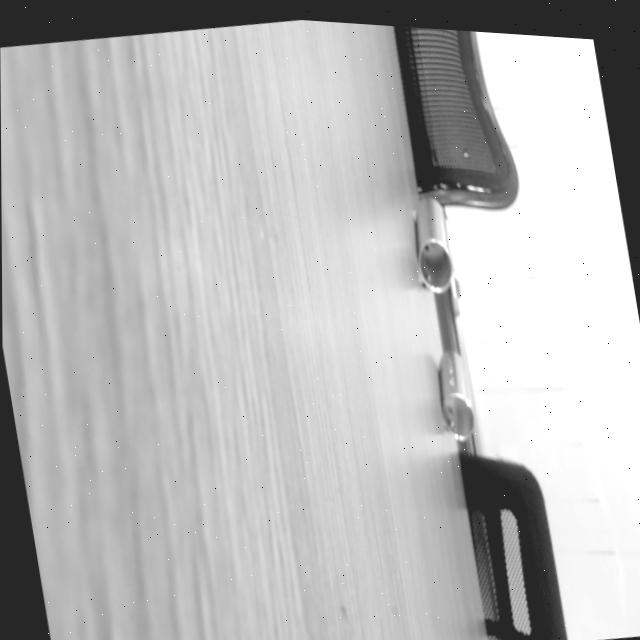Co_Lon: (409, 195, 456, 295)
Co_Nho: (435, 348, 476, 442)
